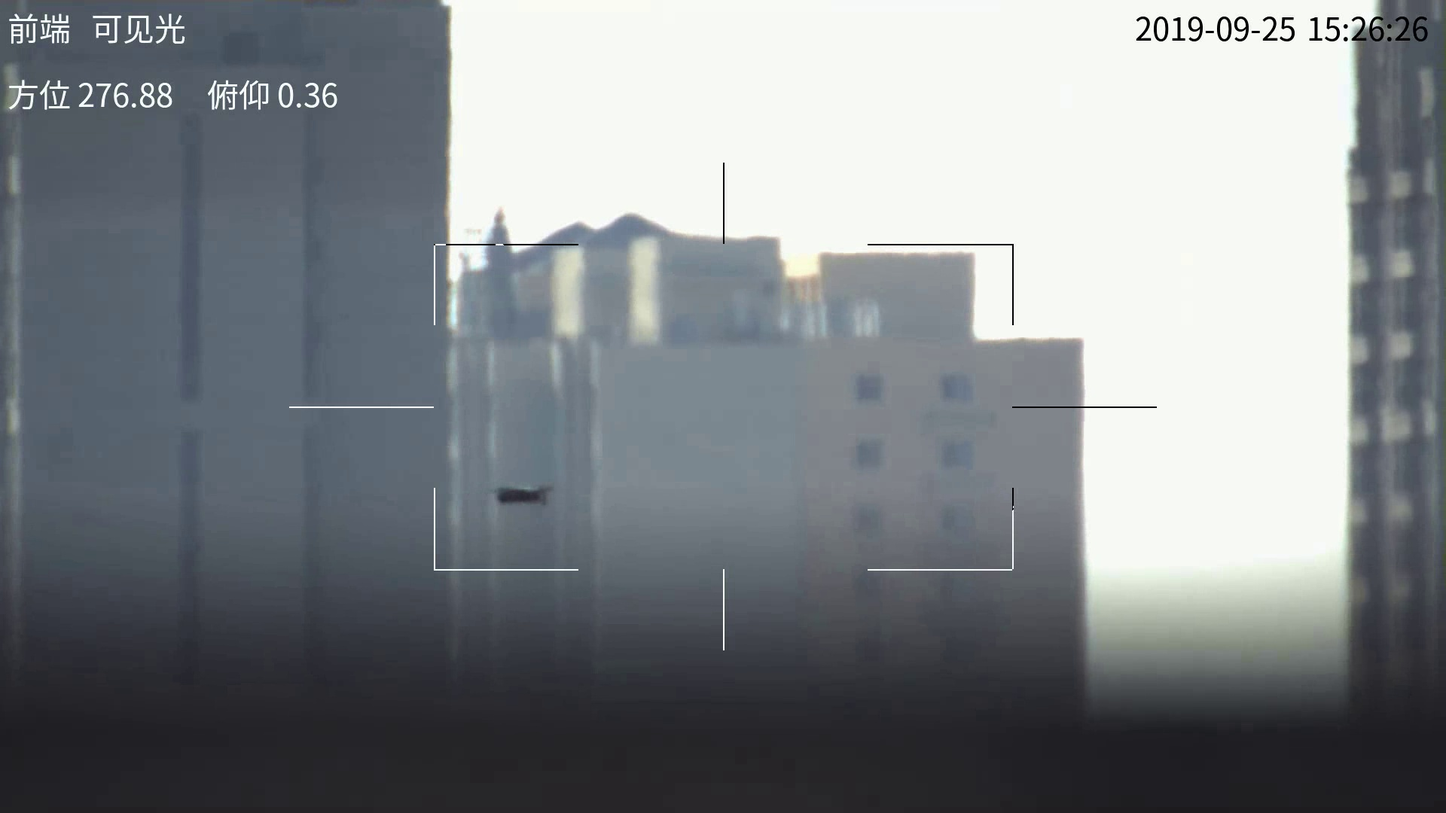drone: (498, 485, 541, 505)
